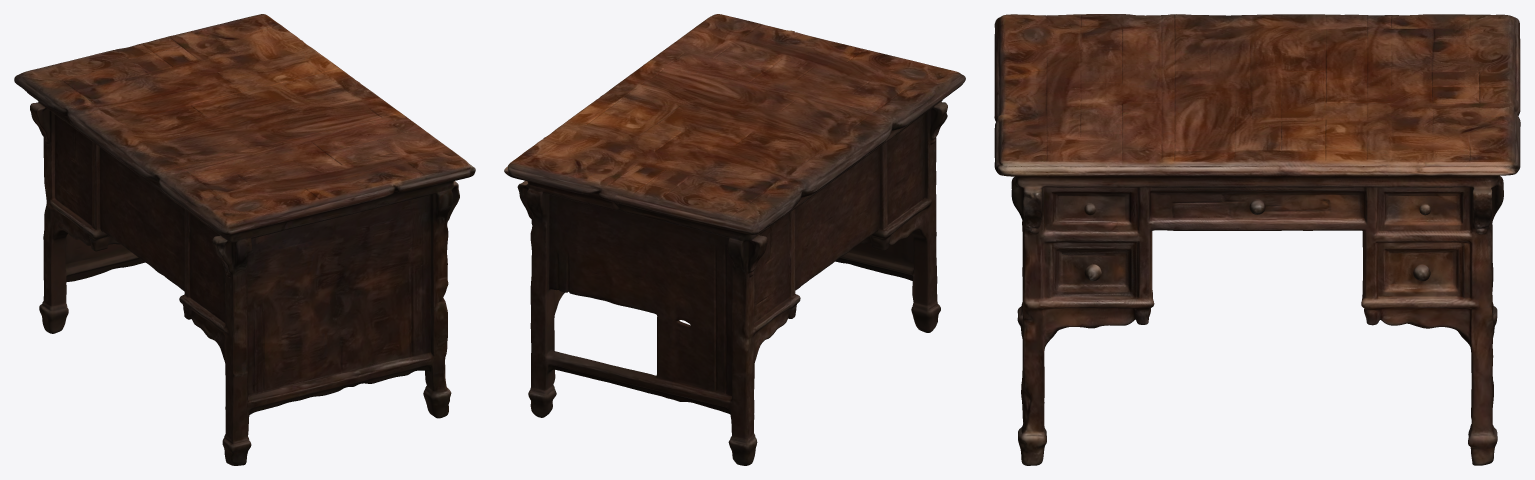
File: antique+wooden+desk+3d+model.glb
3 views of the same model, side by side, from view 1: azimuth 30°, elevation 25°; view 2: azimuth 150°, elevation 25°; view 3: azimuth 270°, elevation 25° (orthographic). The views are drawn at different scales.
Visible parts, largest first — view 1: tripo_node_61b619ef-fc80-40ba-9040-62b0305b9dcb; view 2: tripo_node_61b619ef-fc80-40ba-9040-62b0305b9dcb; view 3: tripo_node_61b619ef-fc80-40ba-9040-62b0305b9dcb.
Part boxes in pixels (x1,y1,x2,y2): tripo_node_61b619ef-fc80-40ba-9040-62b0305b9dcb: [14, 14, 475, 465]; tripo_node_61b619ef-fc80-40ba-9040-62b0305b9dcb: [504, 14, 965, 465]; tripo_node_61b619ef-fc80-40ba-9040-62b0305b9dcb: [994, 14, 1520, 465].
Bounding box in the file's own units: 0.6927 × 0.6633 × 1.
Materials: 1 (1 with a texture image).
